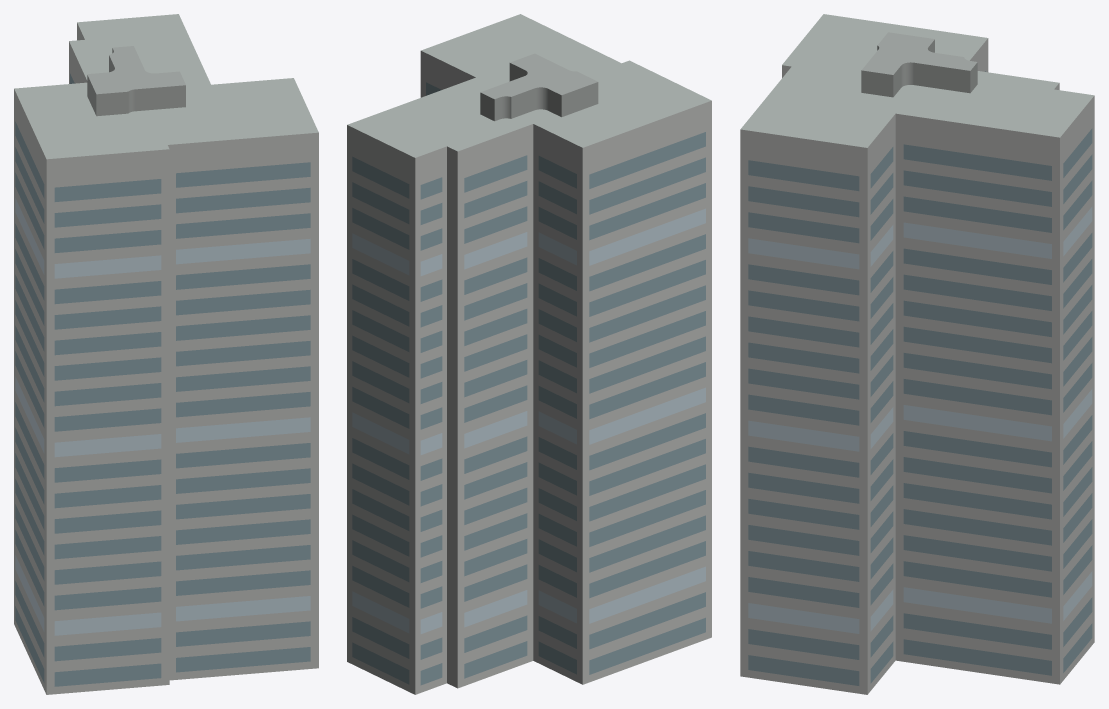
Rendered from apt-a10027684.glb.
The picture shows the model from 3 angles, left to right: view 1: azimuth 30°, elevation 25°; view 2: azimuth 150°, elevation 25°; view 3: azimuth 270°, elevation 25°; orthographic projection. The views are drawn at different scales.
Parts seen in each view (by area): view 1: apt-a10027684; view 2: apt-a10027684; view 3: apt-a10027684.
Part boxes in pixels (x1,y1,x2,y2): apt-a10027684: [14, 14, 318, 694]; apt-a10027684: [347, 14, 711, 694]; apt-a10027684: [740, 14, 1094, 694].
Bounding box in the file's own units: 30.78 × 61 × 34.4.
